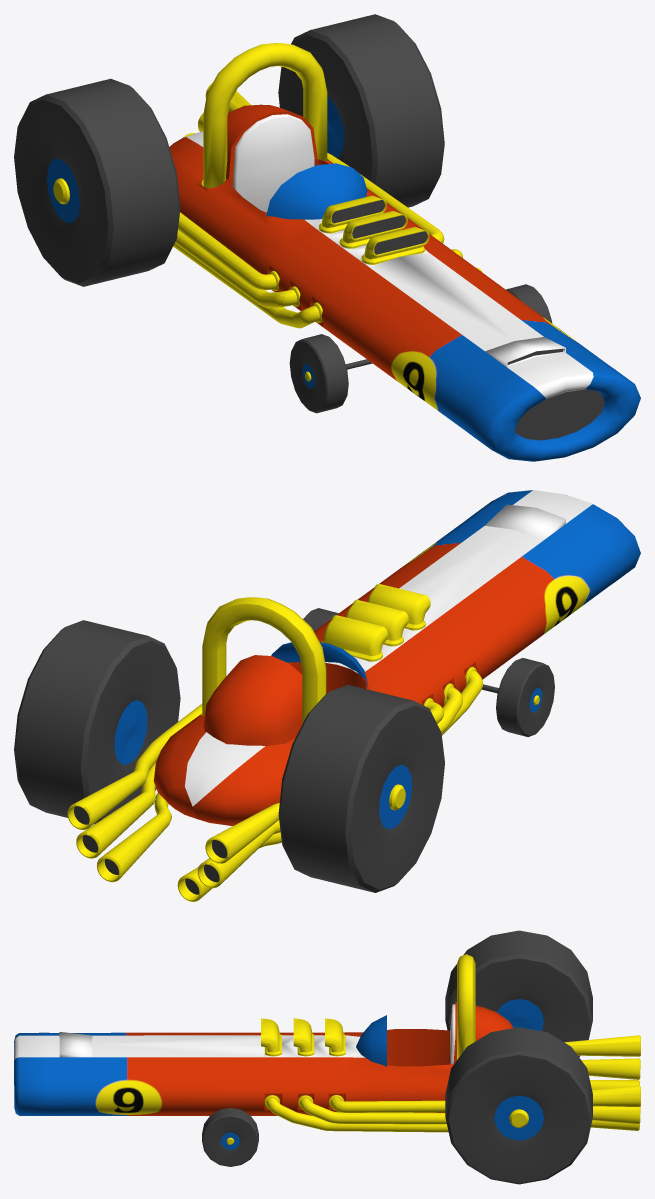
The model's file is TurboTerrific.fbx.
The picture shows the model from 3 angles, top to bottom: view 1: azimuth 30°, elevation 25°; view 2: azimuth 150°, elevation 25°; view 3: azimuth 270°, elevation 25°; orthographic projection. The views are drawn at different scales.
Parts seen in each view (by area): view 1: Centre, Accessoir, WheelsBack012, WheelsBack002, WheelsBack013, WheelsBack004, Pare-brise, WheelsFront013, WheelsFront012, WheelsBack015, WheelsBack017, WheelsBack006 (+2 smaller); view 2: Centre, Accessoir, WheelsBack012, WheelsBack002, WheelsBack013, WheelsBack004, WheelsFront013, WheelsFront012, WheelsBack008, WheelsBack015, WheelsBack017, WheelsBack006 (+1 smaller); view 3: Centre, Accessoir, WheelsBack003, WheelsBack014, WheelsBack002, WheelsBack012, WheelsFront003, WheelsBack007, WheelsBack005, Pare-brise, WheelsBack018, WheelsBack016 (+1 smaller).
Boxes of the visible parts, left/top/right/bottom form: Centre: left=169, top=131, right=640, bottom=461; Accessoir: left=173, top=43, right=482, bottom=328; WheelsBack012: left=46, top=78, right=178, bottom=286; WheelsBack002: left=310, top=14, right=443, bottom=207; WheelsBack013: left=14, top=99, right=108, bottom=283; WheelsBack004: left=278, top=35, right=372, bottom=180; Pare-brise: left=266, top=163, right=367, bottom=219; WheelsFront013: left=289, top=341, right=325, bottom=411; WheelsFront012: left=302, top=334, right=348, bottom=413; WheelsBack015: left=19, top=94, right=113, bottom=286; WheelsBack017: left=47, top=158, right=79, bottom=223; WheelsBack006: left=291, top=30, right=378, bottom=184; Centre: left=153, top=490, right=640, bottom=825; Accessoir: left=67, top=584, right=482, bottom=901; WheelsBack012: left=280, top=684, right=412, bottom=892; WheelsBack002: left=15, top=620, right=147, bottom=824; WheelsBack013: left=350, top=705, right=444, bottom=889; WheelsBack004: left=86, top=641, right=180, bottom=818; WheelsFront013: left=518, top=665, right=554, bottom=735; WheelsFront012: left=496, top=658, right=541, bottom=736; WheelsBack008: left=114, top=700, right=147, bottom=764; WheelsBack015: left=345, top=700, right=440, bottom=892; WheelsBack017: left=379, top=764, right=412, bottom=829; WheelsBack006: left=80, top=636, right=174, bottom=821; Centre: left=14, top=1029, right=453, bottom=1115; Accessoir: left=261, top=954, right=640, bottom=1132; WheelsBack003: left=448, top=1055, right=589, bottom=1182; WheelsBack014: left=448, top=958, right=589, bottom=1042; WheelsBack002: left=445, top=1027, right=592, bottom=1117; WheelsBack012: left=445, top=930, right=592, bottom=1020; WheelsFront003: left=203, top=1116, right=257, bottom=1166; WheelsBack007: left=494, top=1095, right=543, bottom=1140; WheelsBack005: left=445, top=1051, right=592, bottom=1184; Pare-brise: left=356, top=1015, right=386, bottom=1066; WheelsBack018: left=497, top=999, right=543, bottom=1030; WheelsBack016: left=445, top=954, right=592, bottom=1057.
Size of the model in its own units: 2.67 by 1.66 by 5.65.
3 materials, 3 textured.
